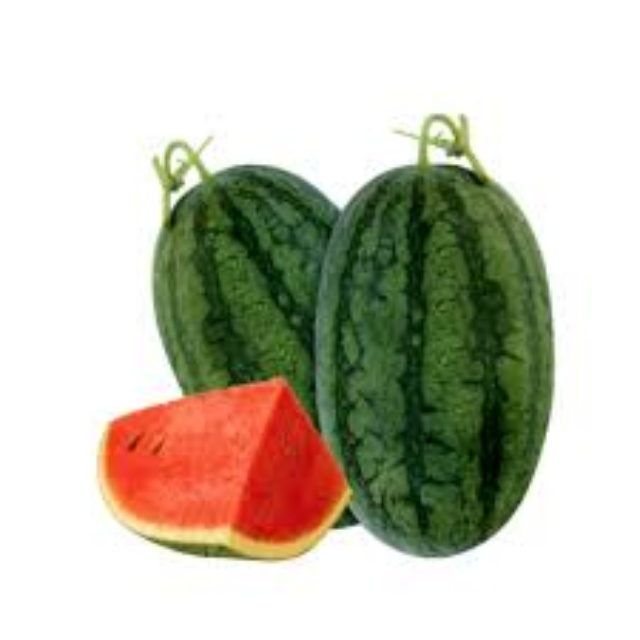dua_hau: (315, 140, 563, 569), (132, 130, 335, 383), (89, 385, 353, 553)
